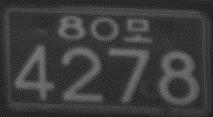0: (90, 16, 119, 42)
2: (60, 45, 103, 104)
4: (13, 43, 54, 102)
7: (108, 45, 151, 104)
8: (157, 48, 200, 107), (57, 13, 87, 41)
모: (123, 17, 152, 43)
